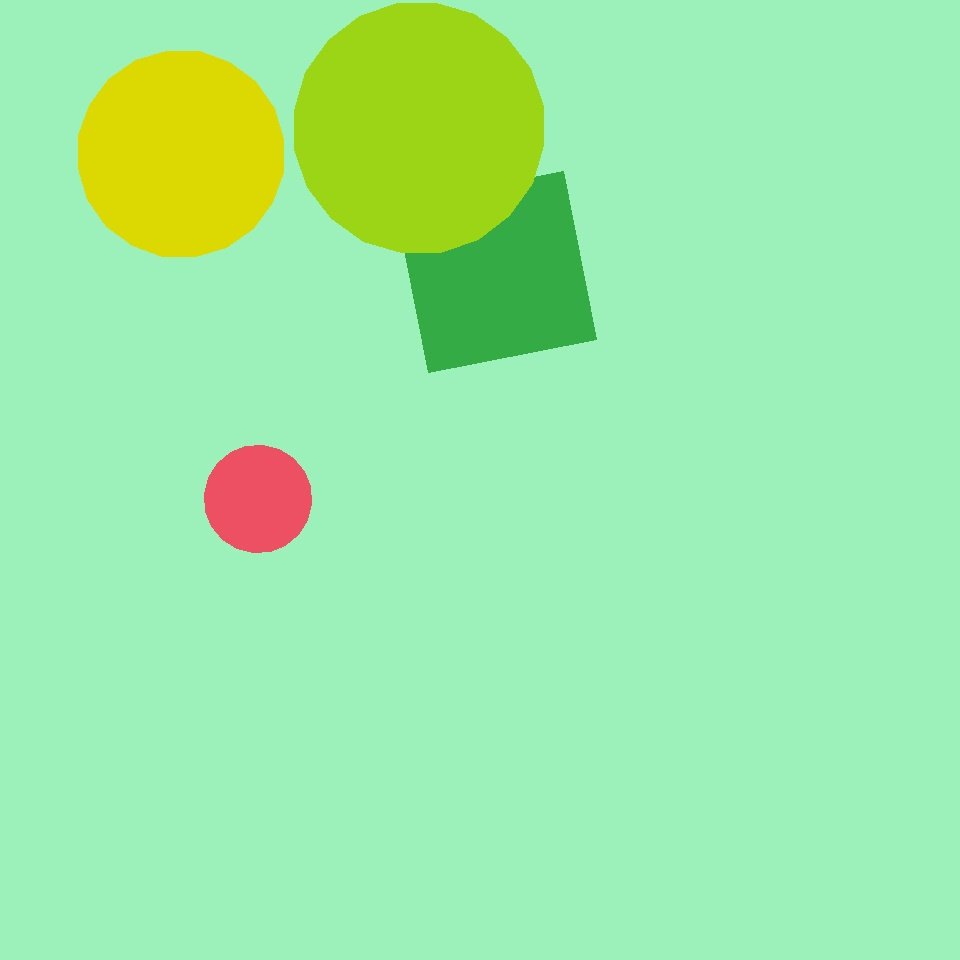circle: (242, 340, 334, 444)
square: (231, 512, 537, 817), (623, 640, 840, 857), (396, 172, 597, 372), (775, 448, 903, 577)
triangle: (294, 3, 544, 253), (78, 52, 284, 256), (204, 446, 312, 552)
